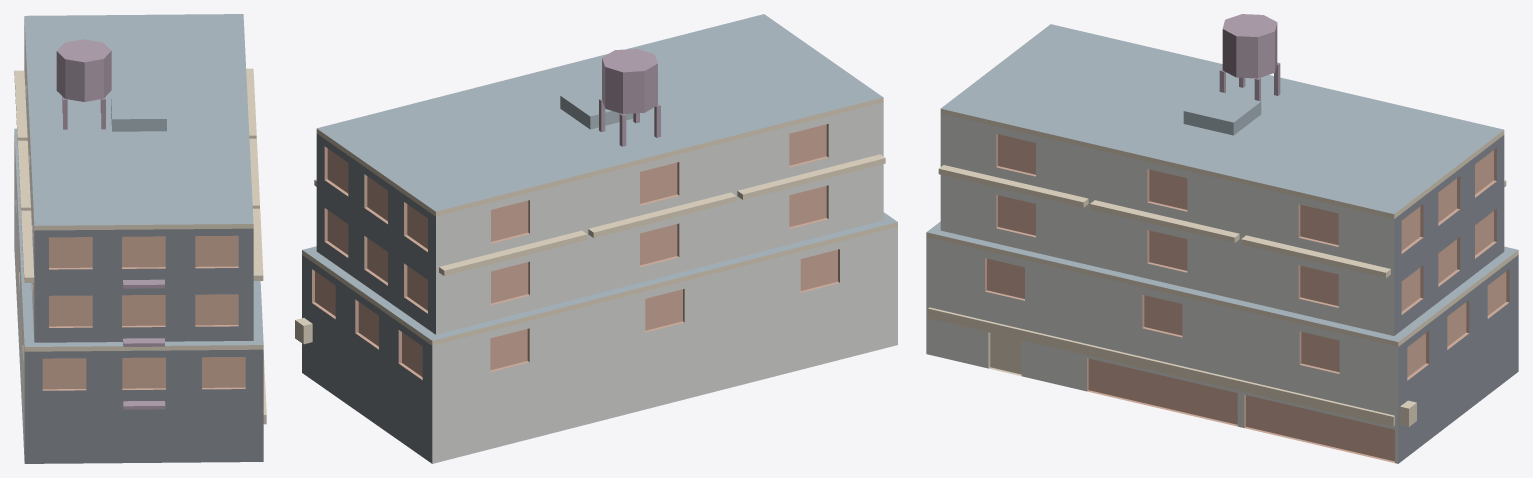
Rendered from doitt-102705__lod_0.glb.
3 views of the same model, side by side, from view 1: azimuth 30°, elevation 25°; view 2: azimuth 150°, elevation 25°; view 3: azimuth 270°, elevation 25° (orthographic). The views are drawn at different scales.
Size of the model in its own units: 26.4 by 19.18 by 32.56.
